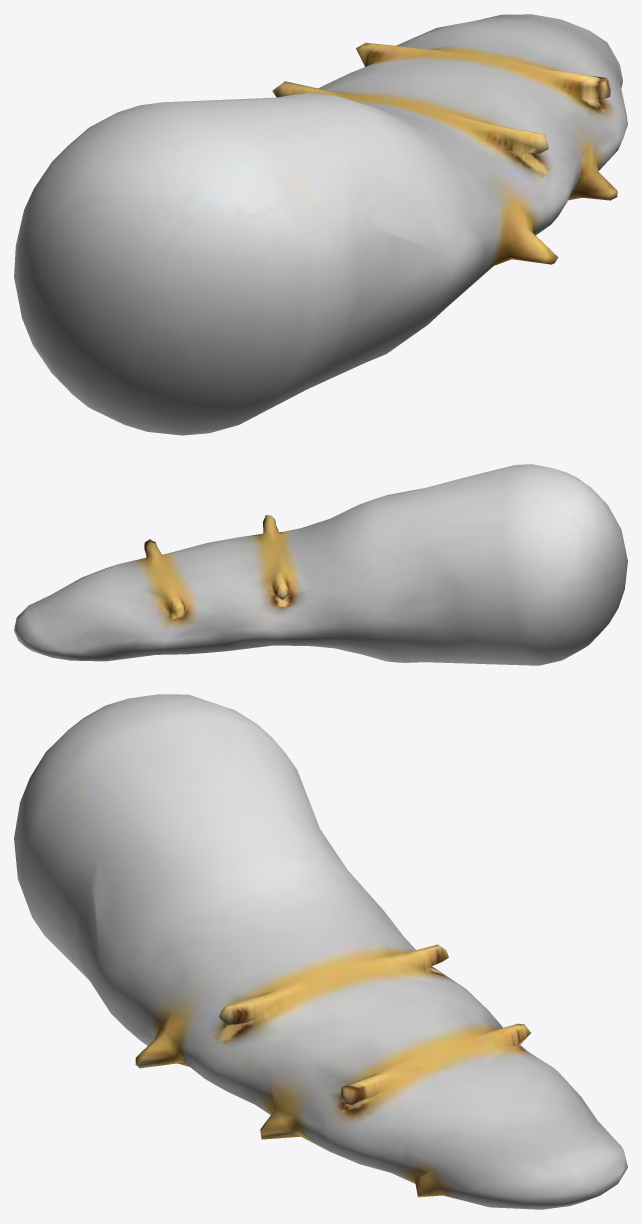
The model's file is rua_chansau.glb.
3 renders of one model, top to bottom at view 1: azimuth 30°, elevation 25°; view 2: azimuth 150°, elevation 25°; view 3: azimuth 270°, elevation 25°, orthographic. The views are drawn at different scales.
Visible parts, largest first — view 1: rua_chansau; view 2: rua_chansau; view 3: rua_chansau.
Boxes of the visible parts, <box> form: rua_chansau: <box>14,14,627,435</box>; rua_chansau: <box>14,464,627,665</box>; rua_chansau: <box>14,694,627,1209</box>.
Size of the model in its own units: 0.4802 by 0.1857 by 0.3655.
1 material, 1 textured.
